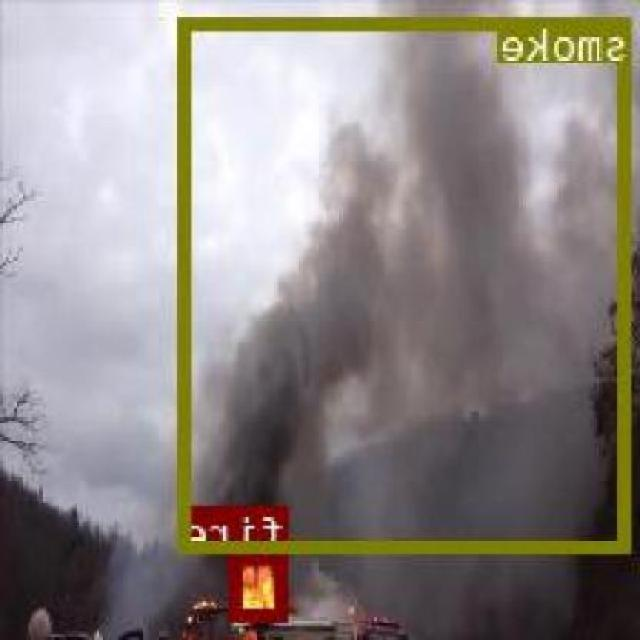Fire: (233, 548, 290, 620)
Smoke: (181, 14, 634, 550)
